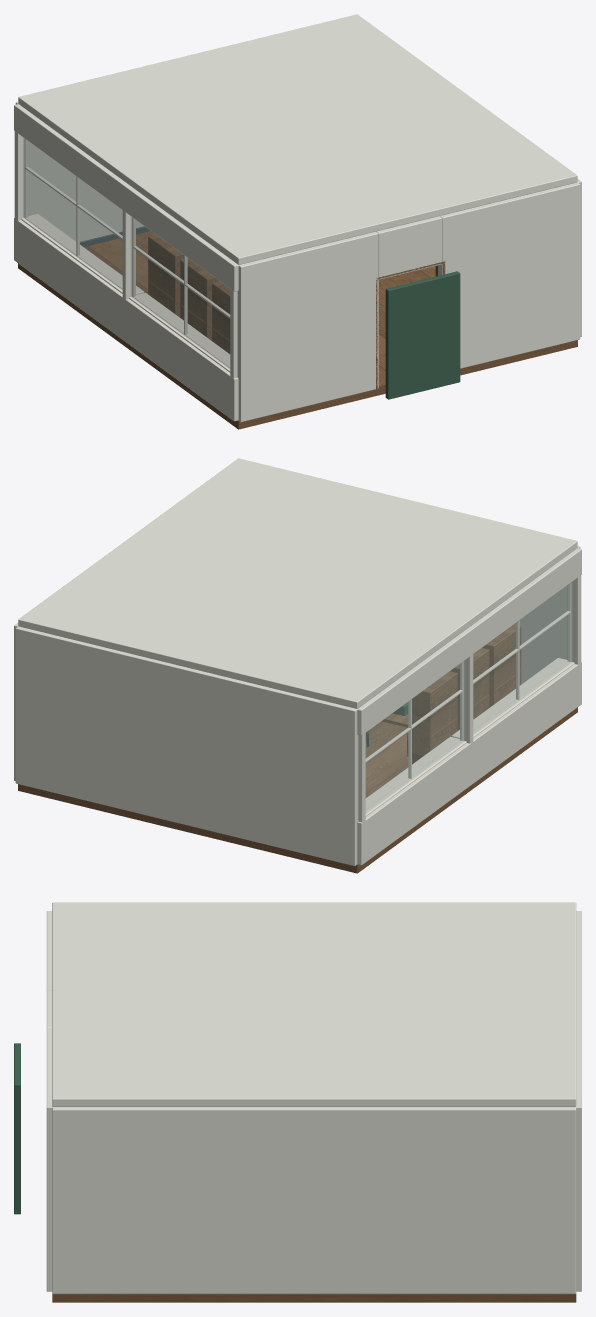
Rendered from archive.glb.
3 renders of one model, top to bottom at view 1: azimuth 30°, elevation 25°; view 2: azimuth 150°, elevation 25°; view 3: azimuth 270°, elevation 25°, orthographic. The views are drawn at different scales.
Visible parts, largest first — view 1: archive__architecture_and_equipment; view 2: archive__architecture_and_equipment; view 3: archive__architecture_and_equipment.
Boxes of the visible parts, x1=… form: archive__architecture_and_equipment: x1=14, y1=14, x2=581, y2=429; archive__architecture_and_equipment: x1=14, y1=458, x2=581, y2=873; archive__architecture_and_equipment: x1=14, y1=902, x2=581, y2=1302.
Bounding box in the file's own units: 8.2 × 3.86 × 9.76.
Materials: 14 (1 with a texture image).
